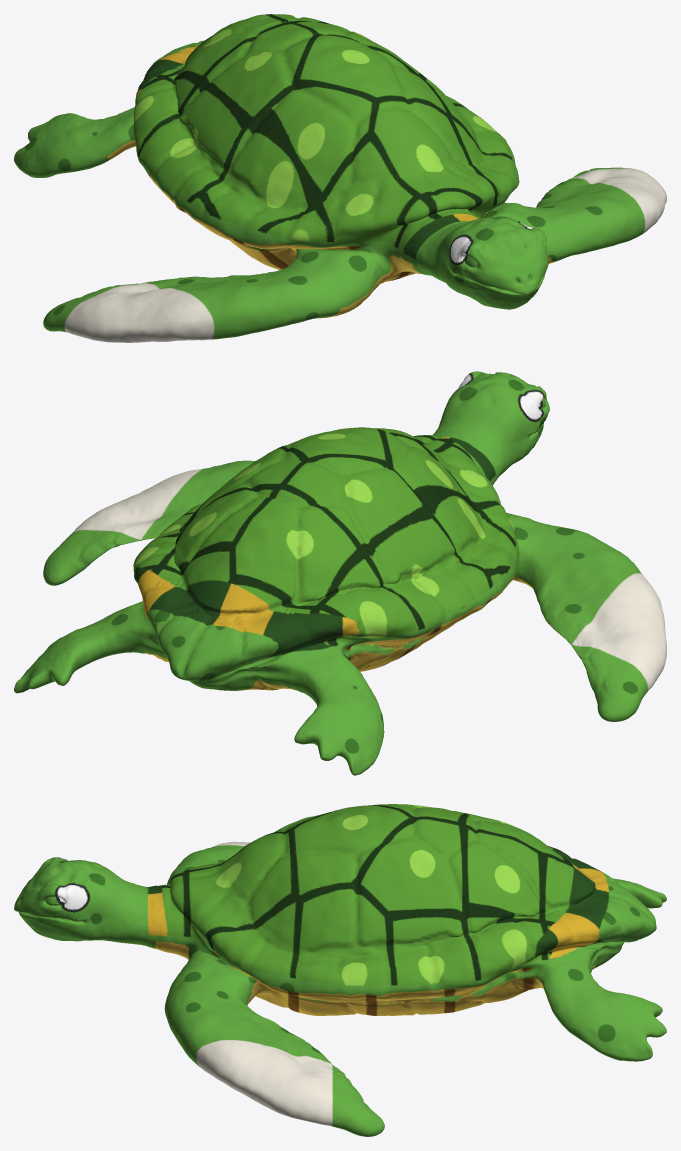
File: turtle.obj
3 renders of one model, top to bottom at view 1: azimuth 30°, elevation 25°; view 2: azimuth 150°, elevation 25°; view 3: azimuth 270°, elevation 25°, orthographic. The views are drawn at different scales.
Visible parts, largest first — view 1: turtle; view 2: turtle; view 3: turtle.
Boxes of the visible parts, x1,y1,x2,y2 form: turtle: (14,14,666,342); turtle: (14,371,666,775); turtle: (14,804,666,1136).
Bounding box in the file's own units: 1.78 × 0.6051 × 1.84.
1 material, 1 textured.
